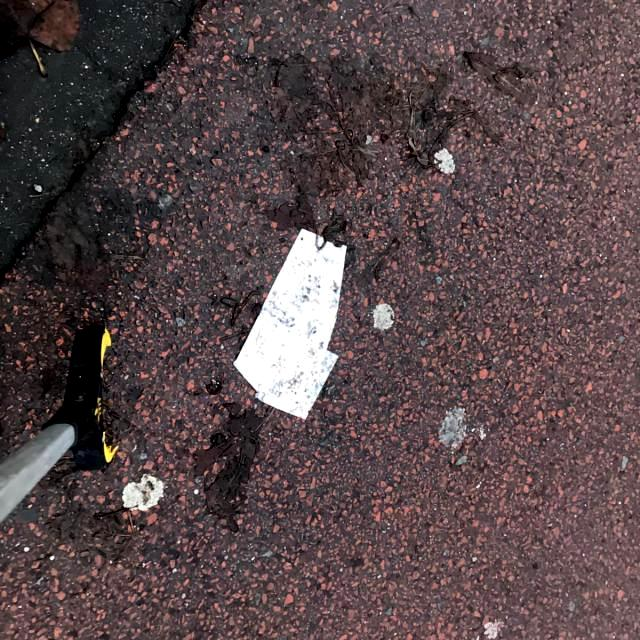Paper: (230, 224, 348, 422)
